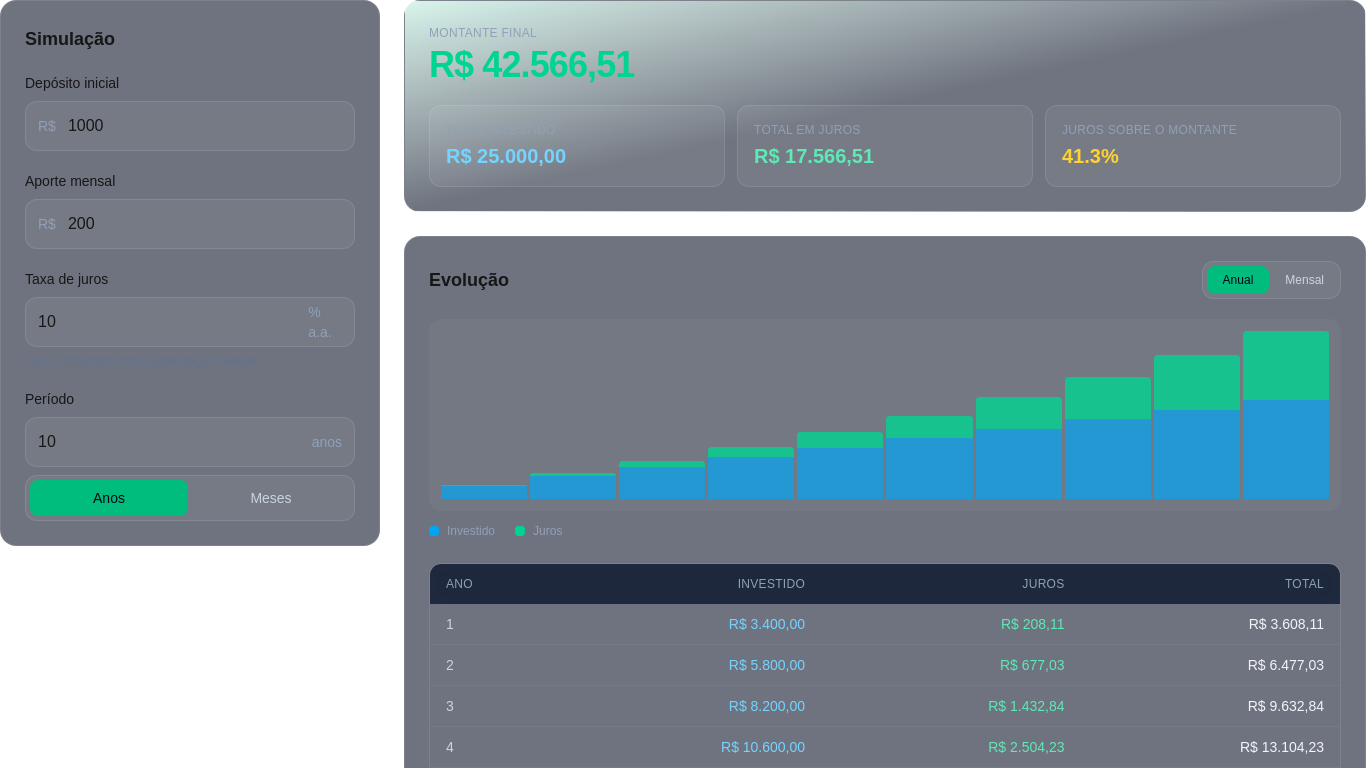
CompoundInterestCalculator › força visão mensal e desabilita 'Anual' com menos de 12 meses
Click the button "Meses". click: (271, 498)
box: [192,480,350,516]
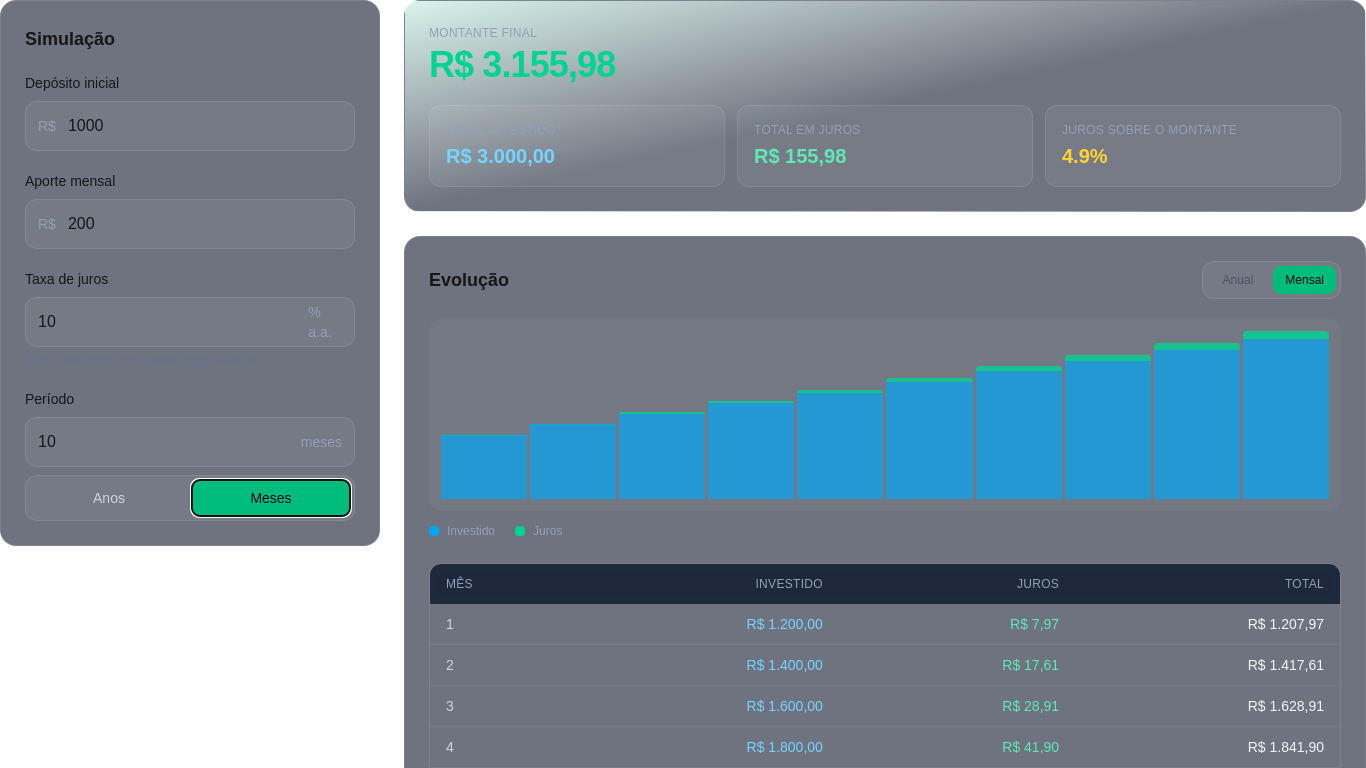
Replace the text in the number field labelled "Período" with "1". click: (163, 442)
box: [26,418,301,466]
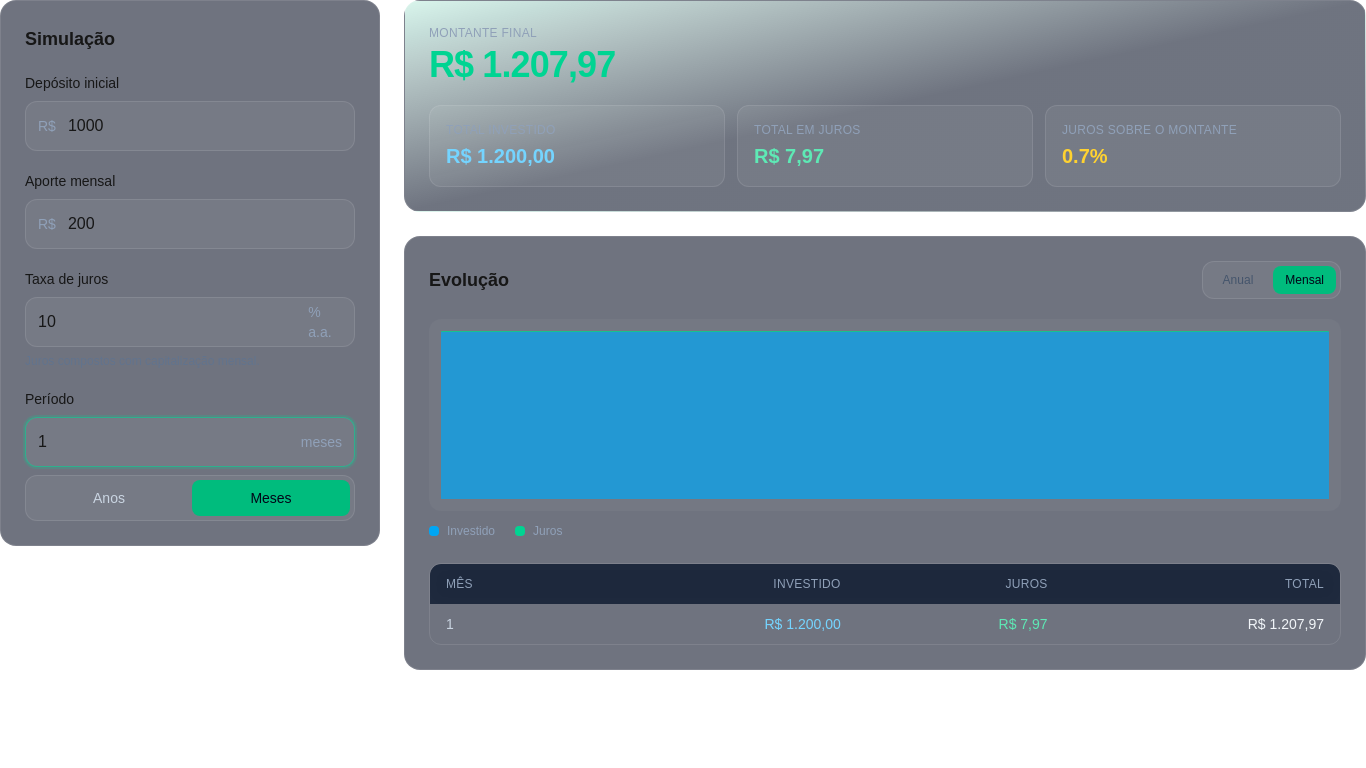
Expected: the column heading "Mês" is shown, [430,564,580,604]
Expected: the button "Anual" is disabled, [1207,266,1269,294]
Expected: the row "1 R$ 1.200,00 R$ 7,97 R$ 1.207,97" is shown, [430,604,1340,644]
